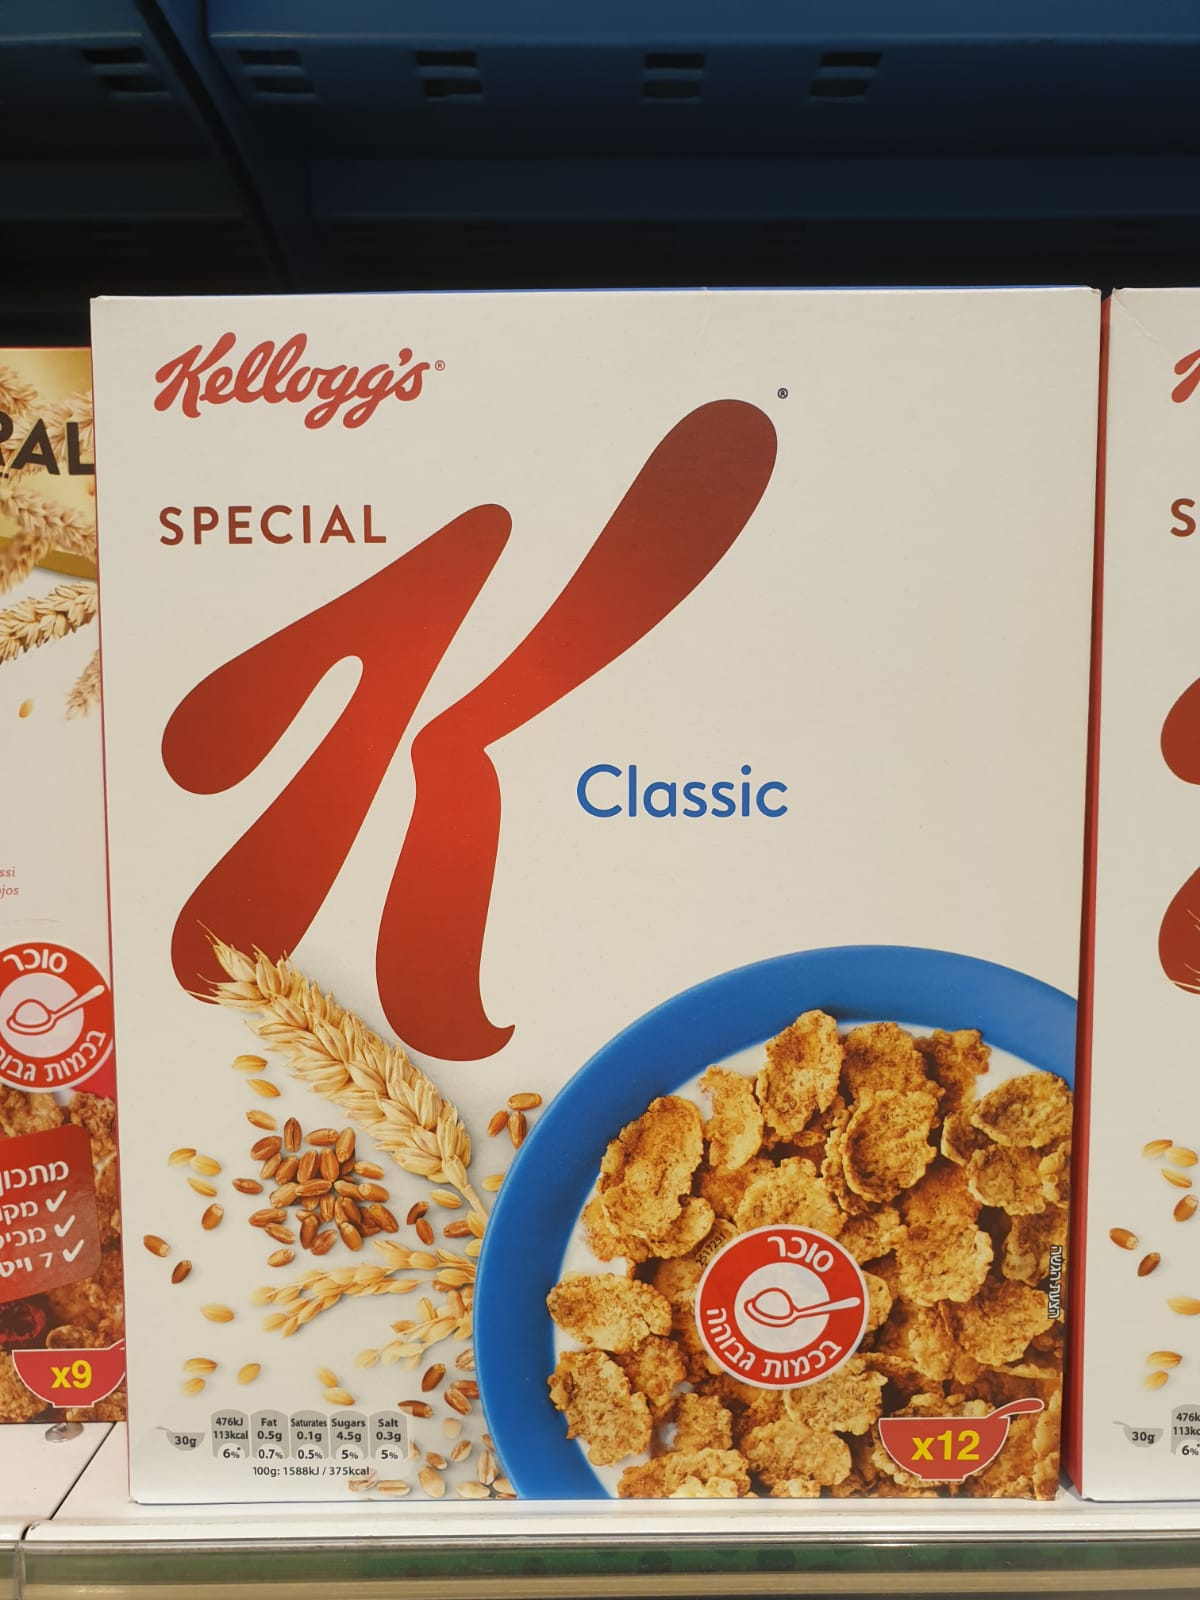sugar: (697, 1226, 866, 1388), (1, 939, 116, 1092)
